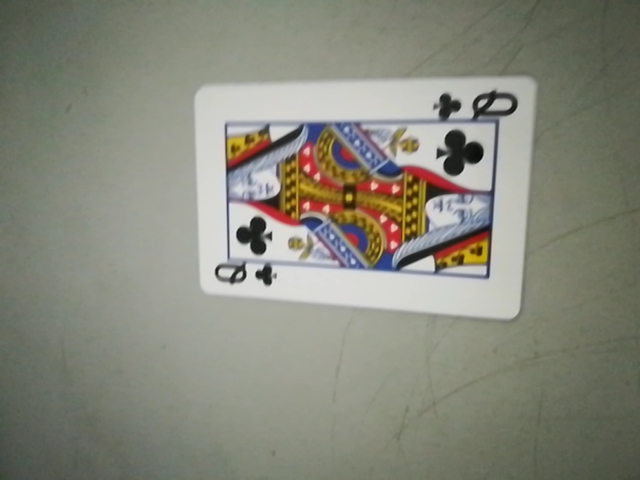mh q: (436, 86, 520, 124), (209, 255, 282, 295)
